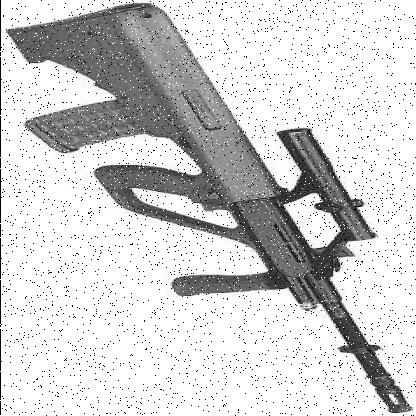rifle: (1, 3, 416, 415)
